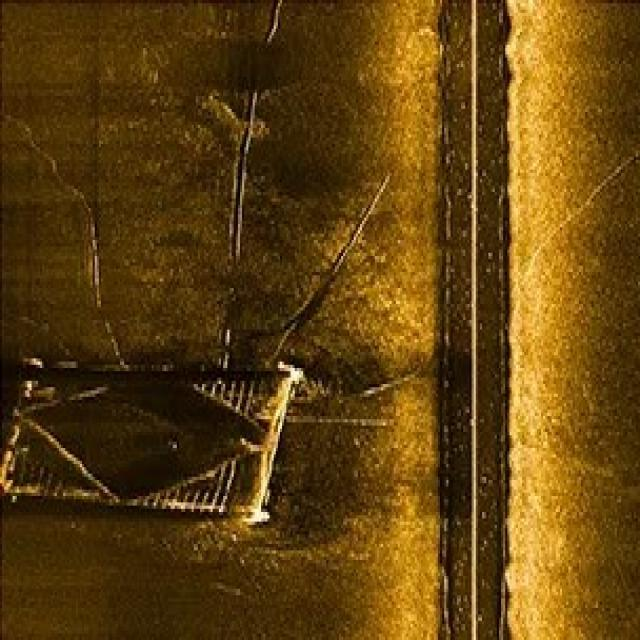other: (2, 346, 297, 534)
